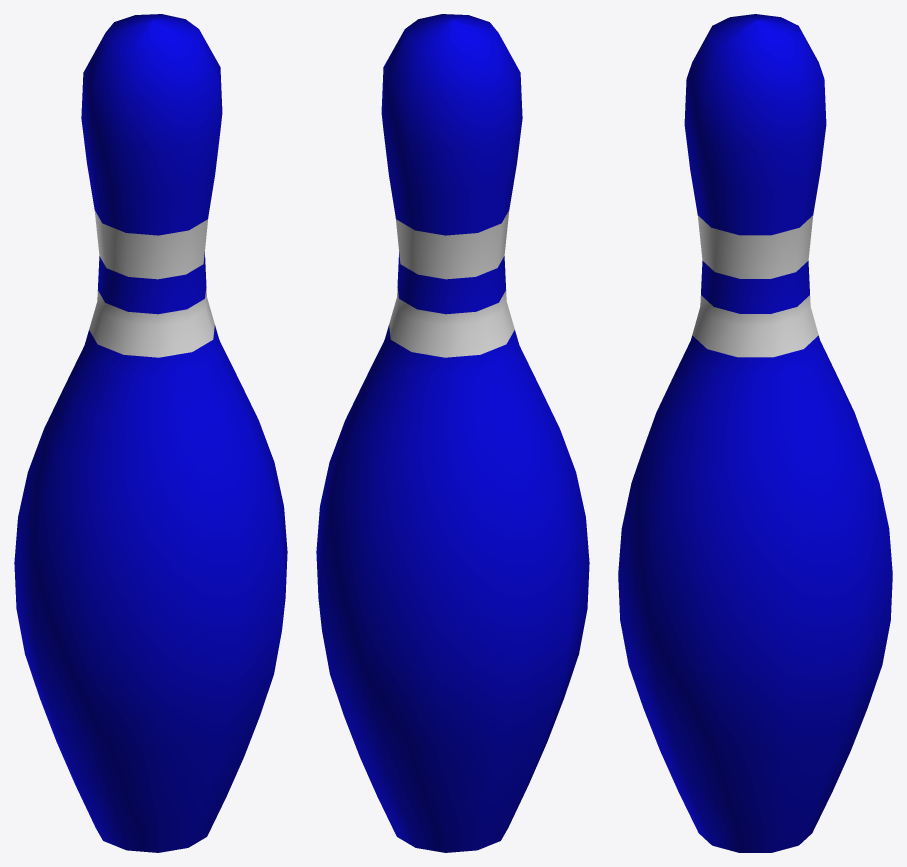
Rendered from BluePin.fbx.
3 views of the same model, side by side, from view 1: azimuth 30°, elevation 25°; view 2: azimuth 150°, elevation 25°; view 3: azimuth 270°, elevation 25° (orthographic).
Visible parts, largest first — view 1: nurbsToPoly1; view 2: nurbsToPoly1; view 3: nurbsToPoly1.
Part boxes in pixels (x1=…): nurbsToPoly1: x1=14, y1=14, x2=287, y2=852; nurbsToPoly1: x1=316, y1=14, x2=589, y2=852; nurbsToPoly1: x1=618, y1=14, x2=892, y2=852.
Bounding box in the file's own units: 1.38 × 4.55 × 1.4.
